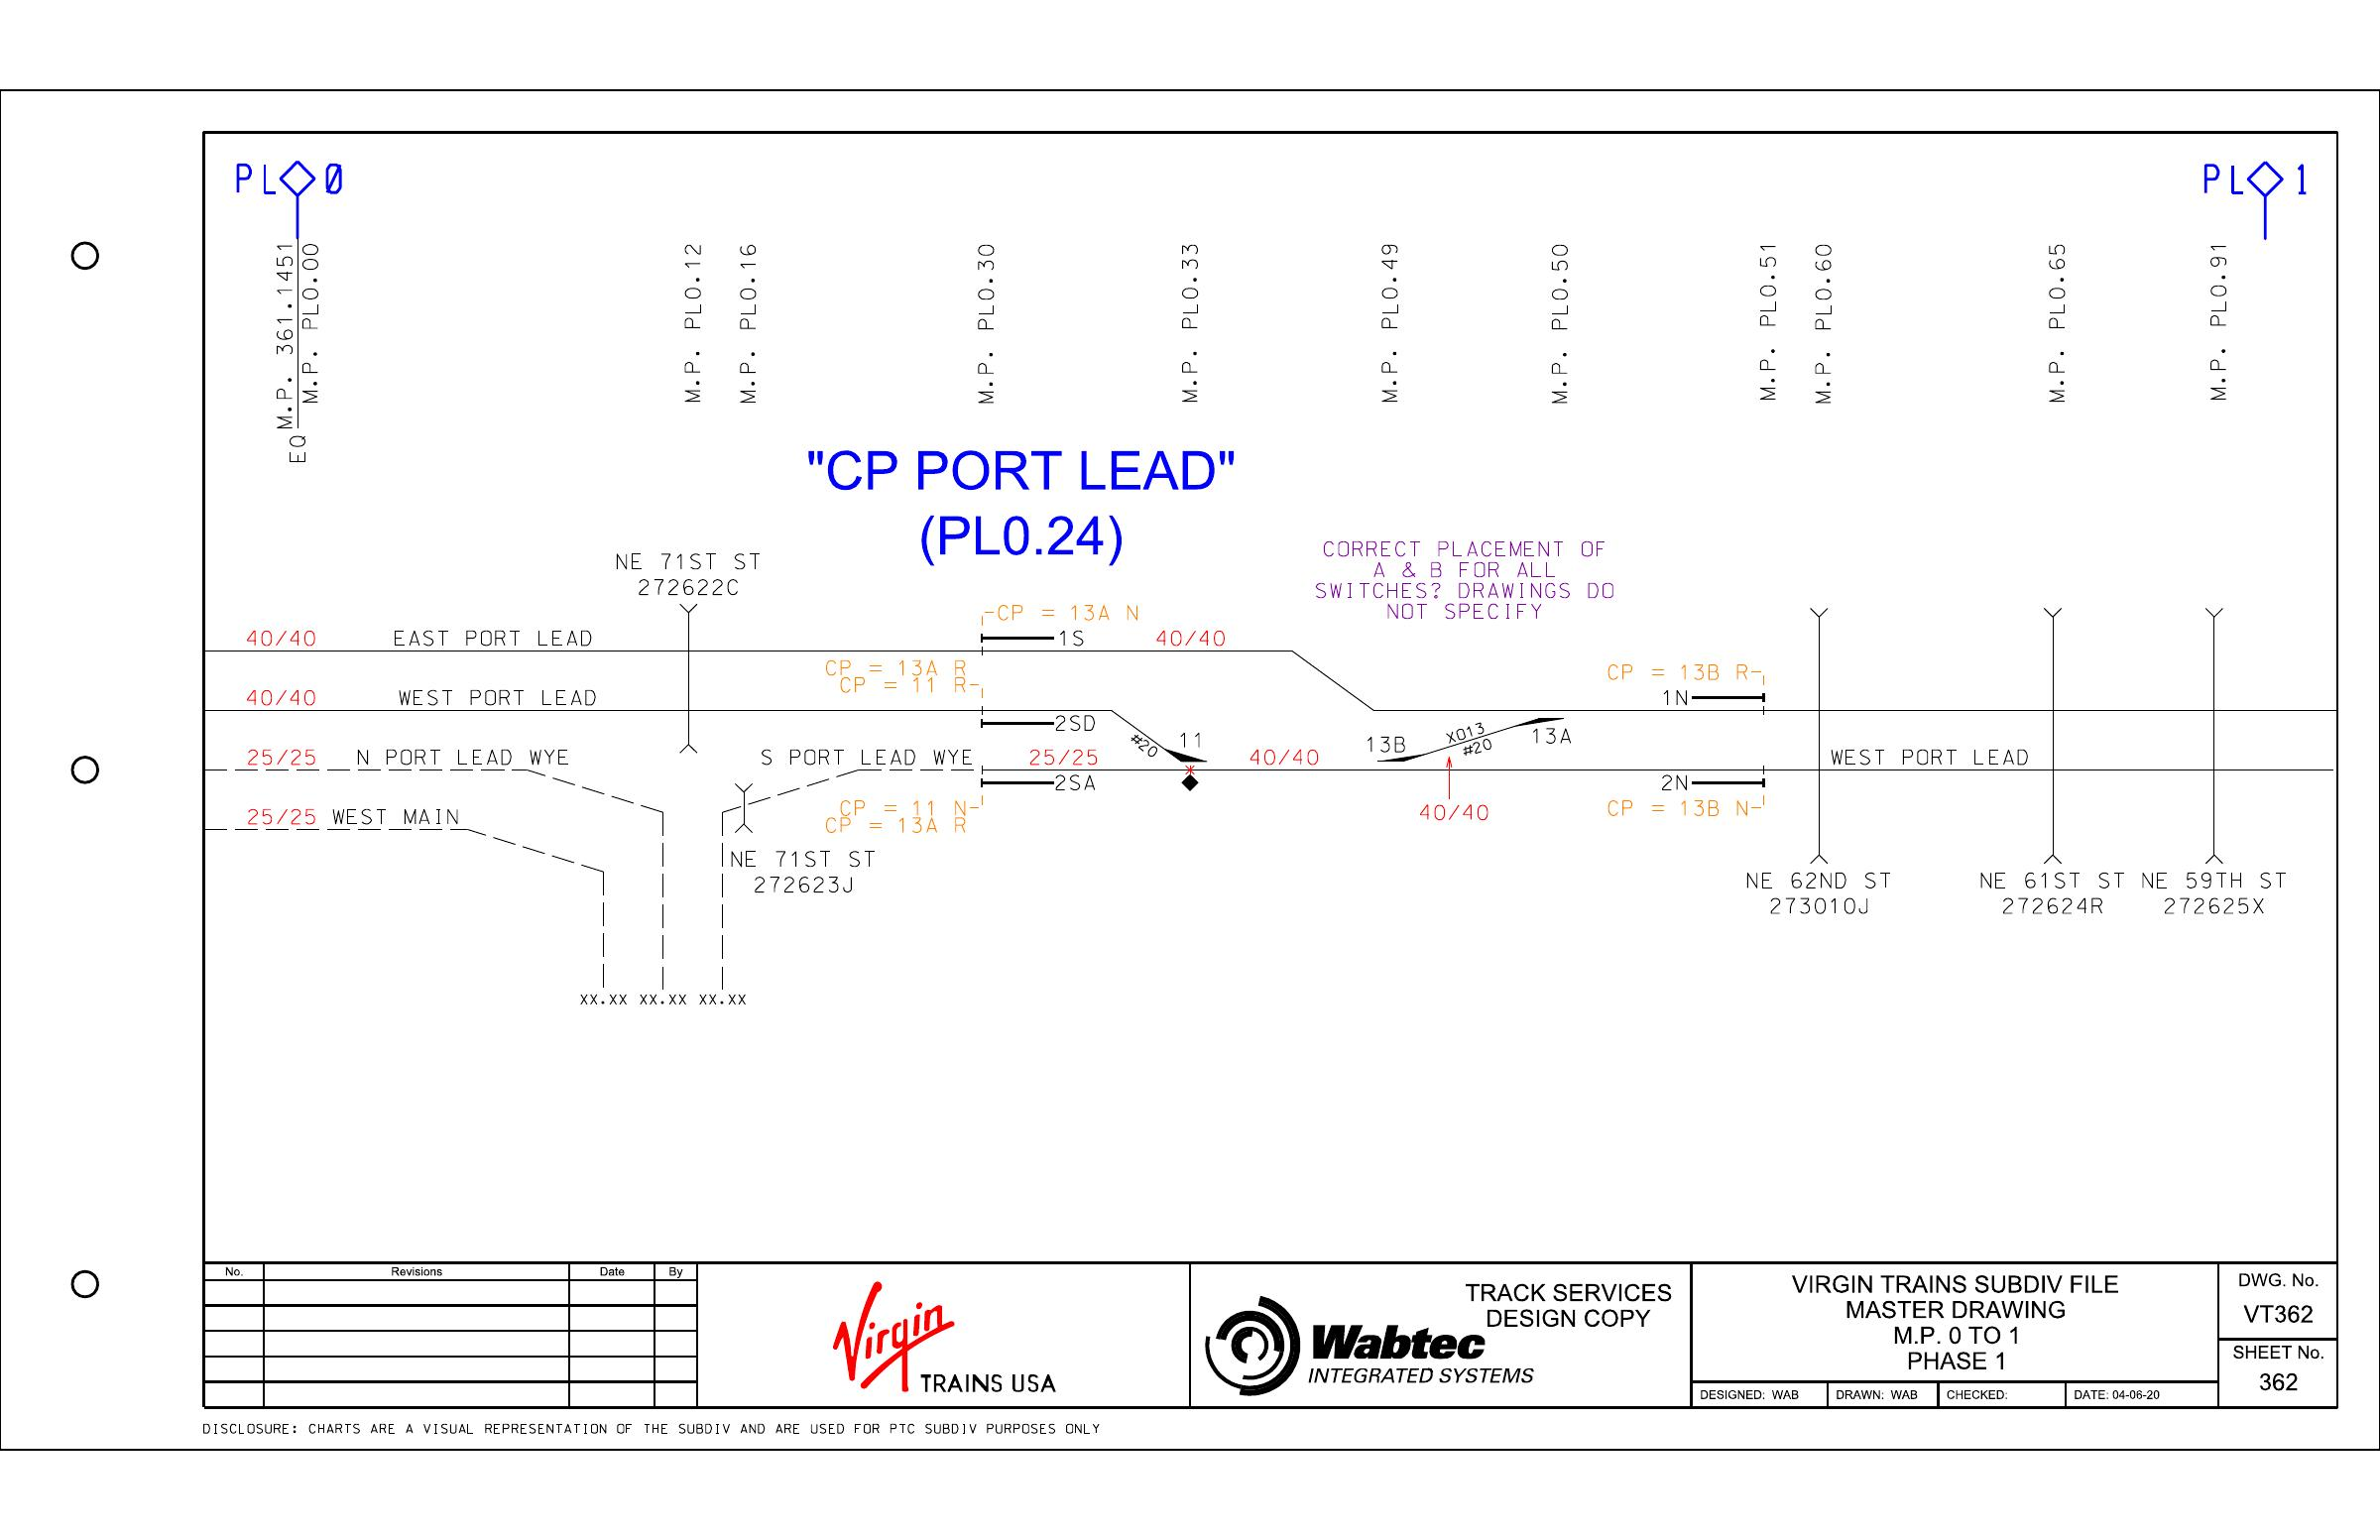crossing: (1797, 588, 1844, 883), (2031, 595, 2075, 871), (2198, 590, 2234, 879), (670, 593, 709, 782)
crossinglabel: (1965, 864, 2132, 935), (600, 538, 774, 605), (1736, 862, 1917, 924), (2139, 860, 2300, 930)
milepost: (2004, 210, 2094, 427), (2170, 210, 2252, 427), (940, 205, 1020, 425), (1530, 208, 1610, 423), (1716, 212, 1794, 428), (1161, 205, 1237, 416), (1351, 210, 1426, 425), (265, 222, 337, 439), (1808, 212, 1879, 427), (730, 217, 800, 420), (652, 219, 722, 420)
signal: (1657, 675, 1771, 730), (970, 702, 1115, 746), (971, 758, 1110, 803), (968, 623, 1098, 668), (1653, 765, 1780, 803)
switch: (1513, 701, 1580, 756), (1363, 725, 1428, 782), (1155, 716, 1214, 773)
